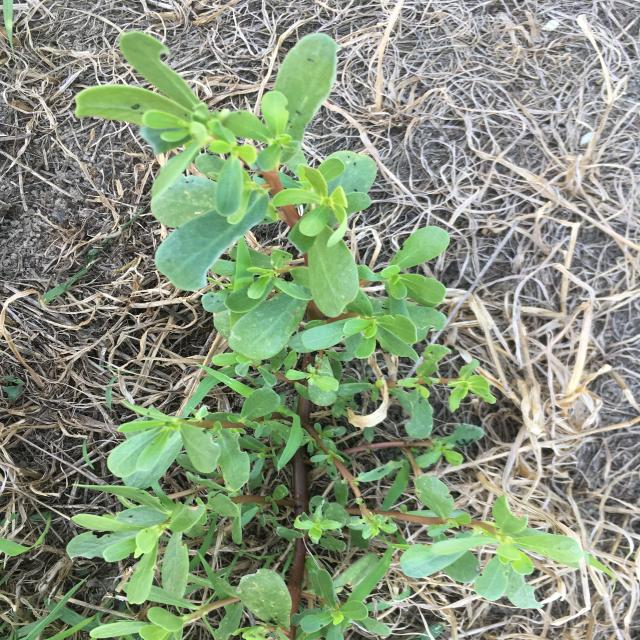Purslane: (67, 31, 590, 640)
